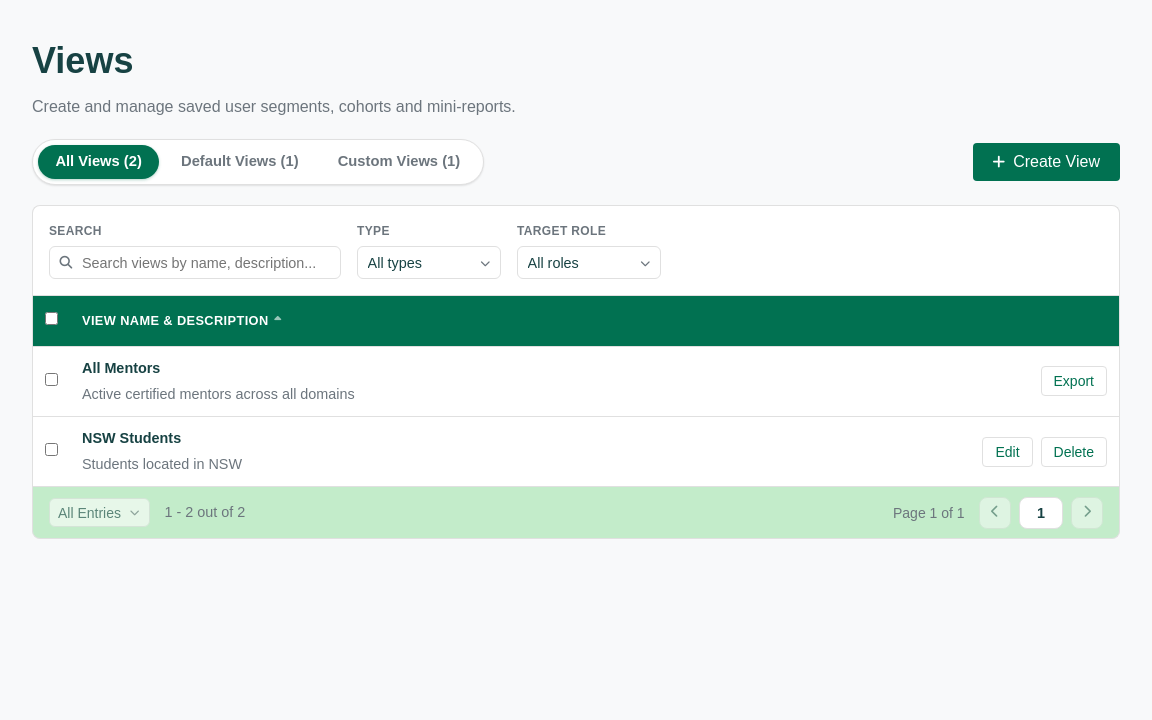
Test: AdminViewsDirectoryPage › shows the bulk actions bar once rows are selected and clears it
Click the checkbox named "Select All Mentors". click: (52, 379)
box: [45,373,58,386]
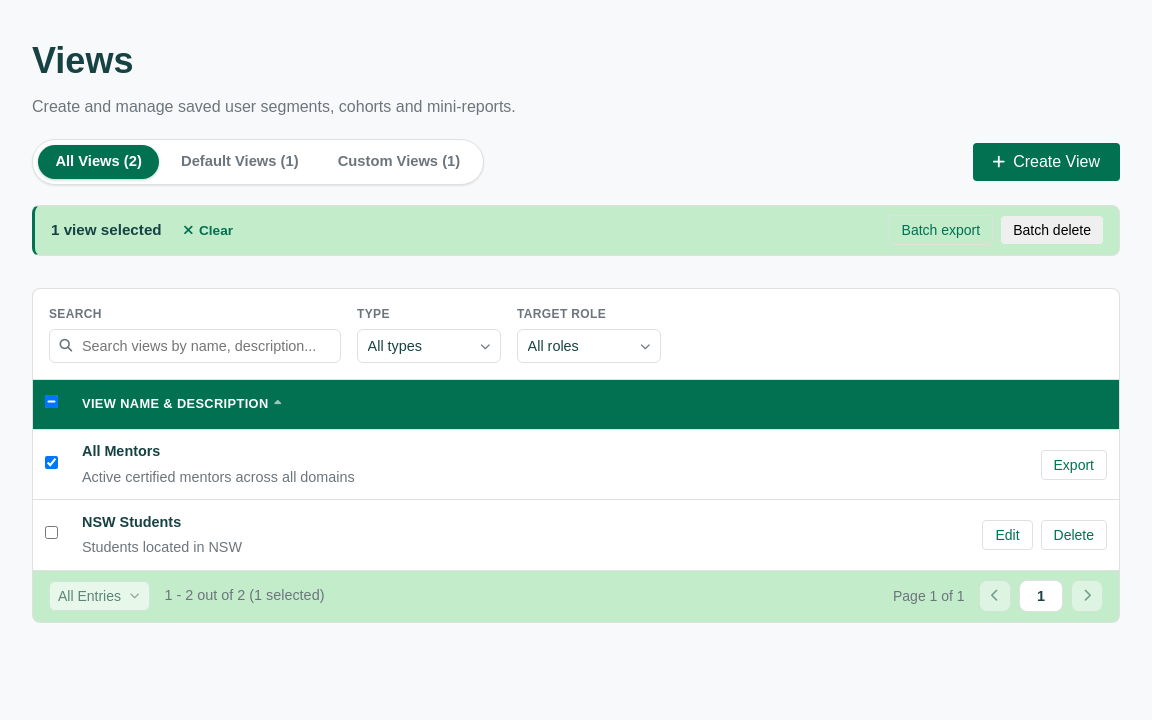
Expected: the text "1 view selected" is shown, [51,218,162,242]
Click the button "Clear". click: (208, 230)
box: [174,218,243,243]
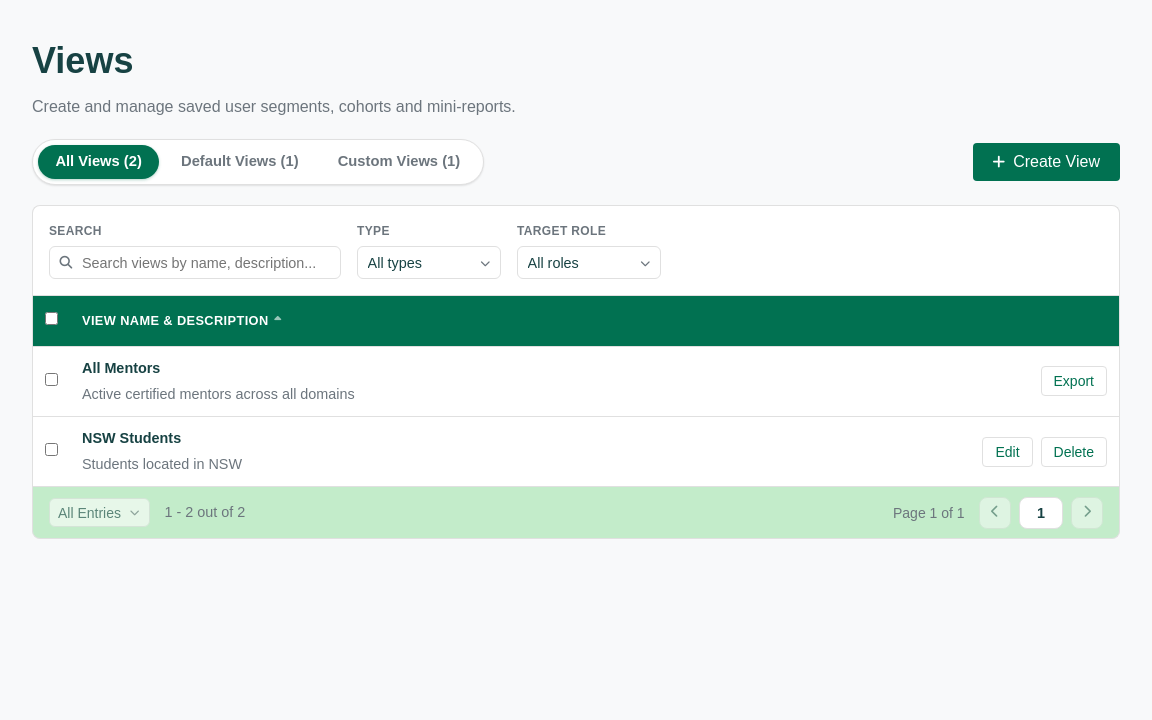
Expected: the text "view selected" is gone
